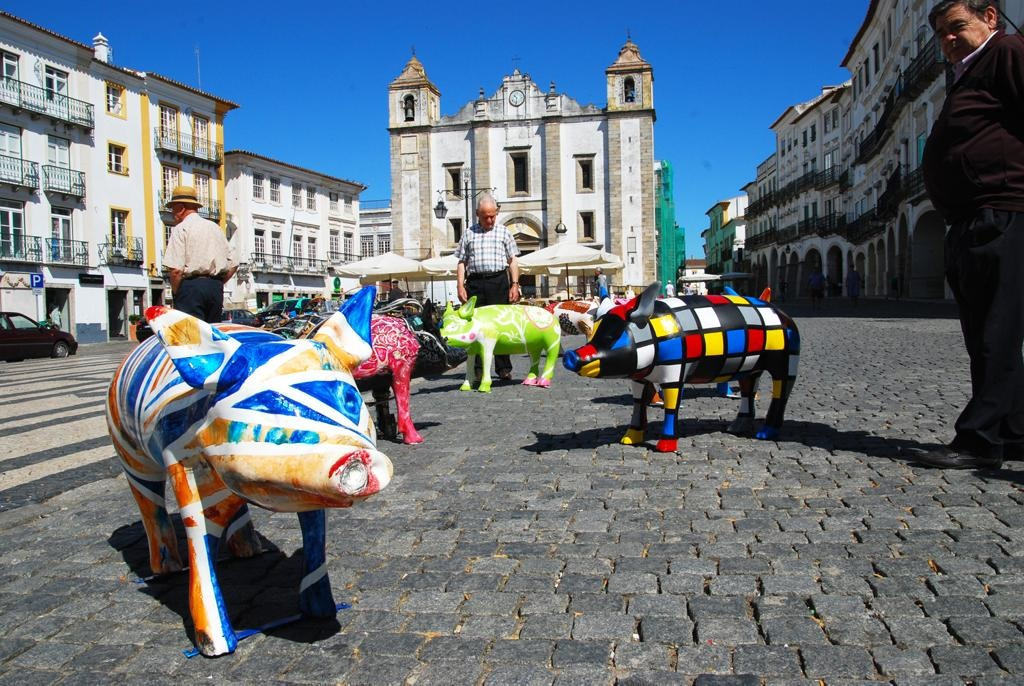human_face: (935, 9, 989, 63), (479, 204, 497, 230), (170, 200, 184, 219), (594, 268, 598, 274), (813, 268, 817, 272), (849, 266, 853, 268)
